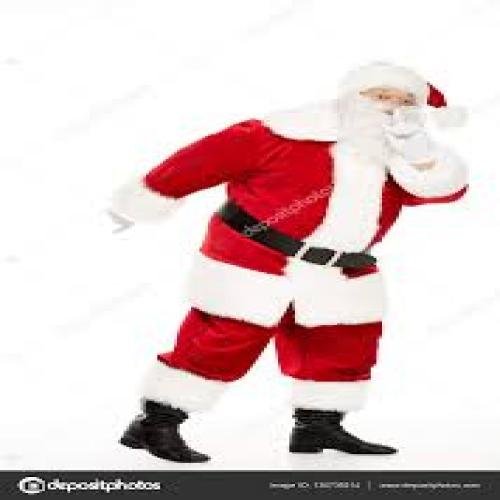Santa: (87, 57, 473, 468)
